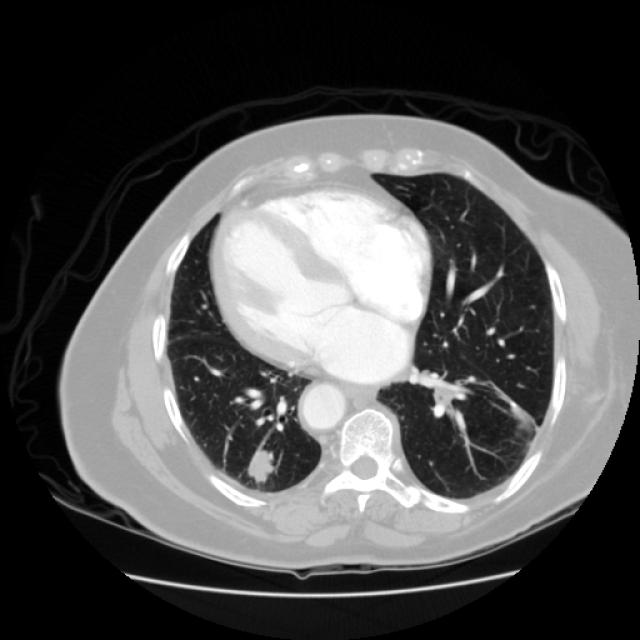nodule: (230, 432, 295, 496)
